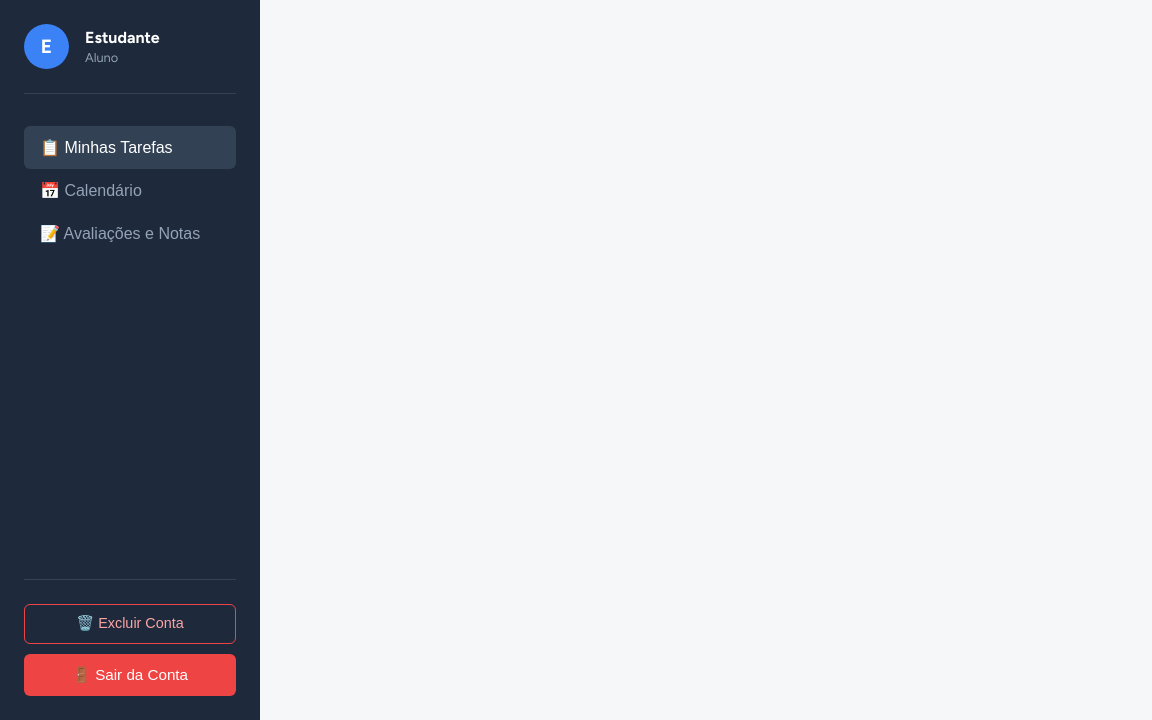
Componentes Visuais do Dashboard › deve renderizar MenuLateral com links de navegacao e abrir modal de exclusao
Check: the button "📋 Minhas Tarefas" is shown, box [24,126,236,169]
Check: the button "📅 Calendário" is shown, box [24,169,236,212]
Step 1. Click the button "🗑️ Excluir Conta" → {"x": 130, "y": 624}, box [24,604,236,644]
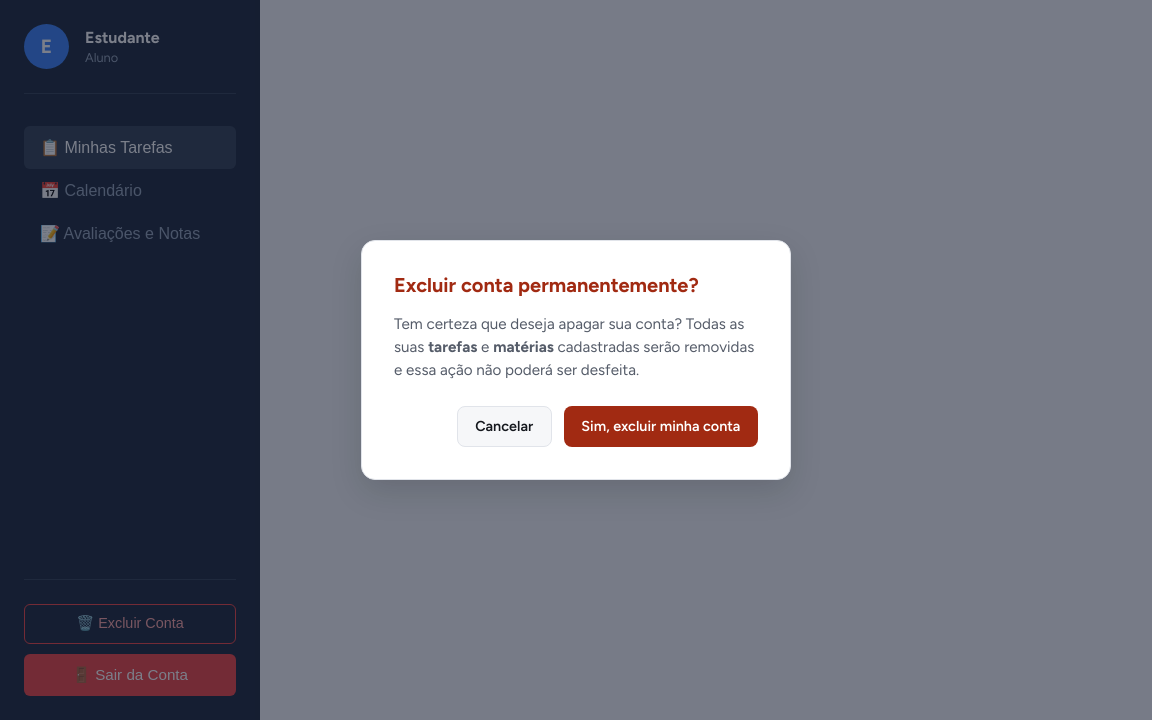
Check: the heading "Excluir conta permanentemente?" is shown, box [394,273,699,297]
